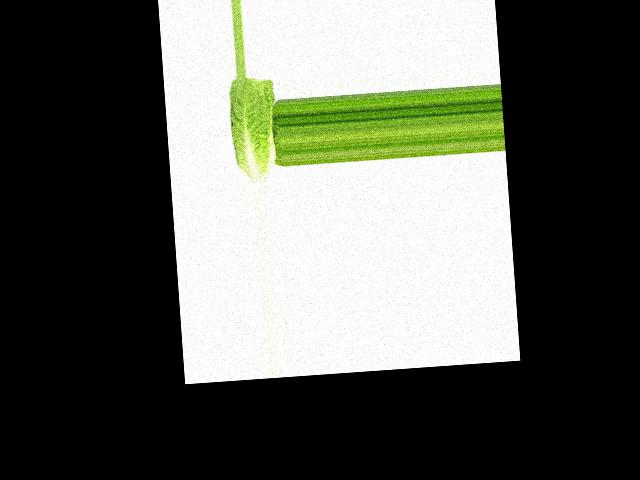lettuce: (220, 75, 278, 183)
